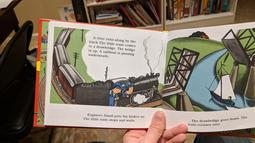text block: (84, 33, 138, 62), (78, 108, 147, 125), (186, 114, 252, 127)
